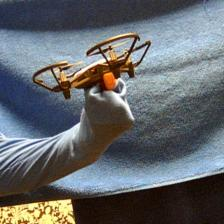drone: (32, 31, 151, 101)
